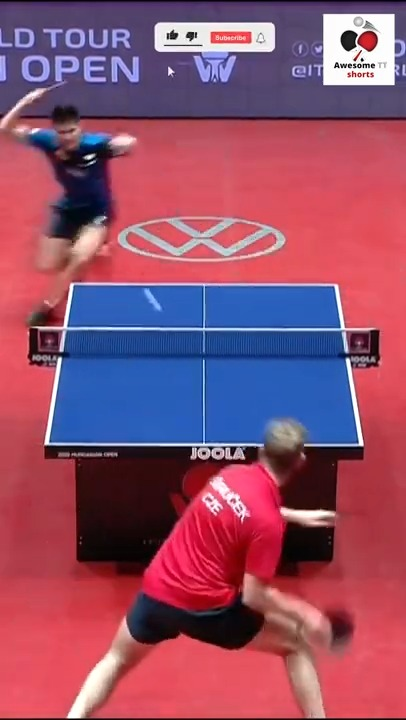Ball: (143, 290, 158, 309)
